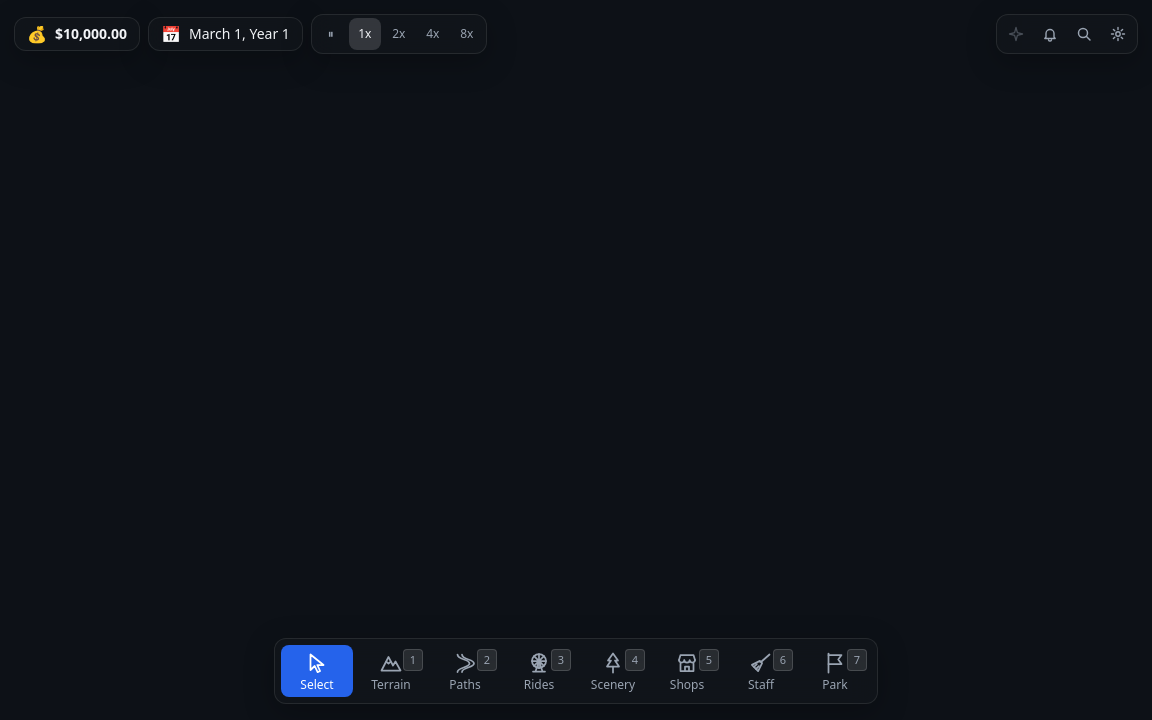
the status pills open the inspector › names the park in the panel's heading, from the host's welcome
Step 1. Click the button with aria-label "Open park overview" → {"x": 225, "y": 34}, box left=149, top=18, right=302, bottom=50
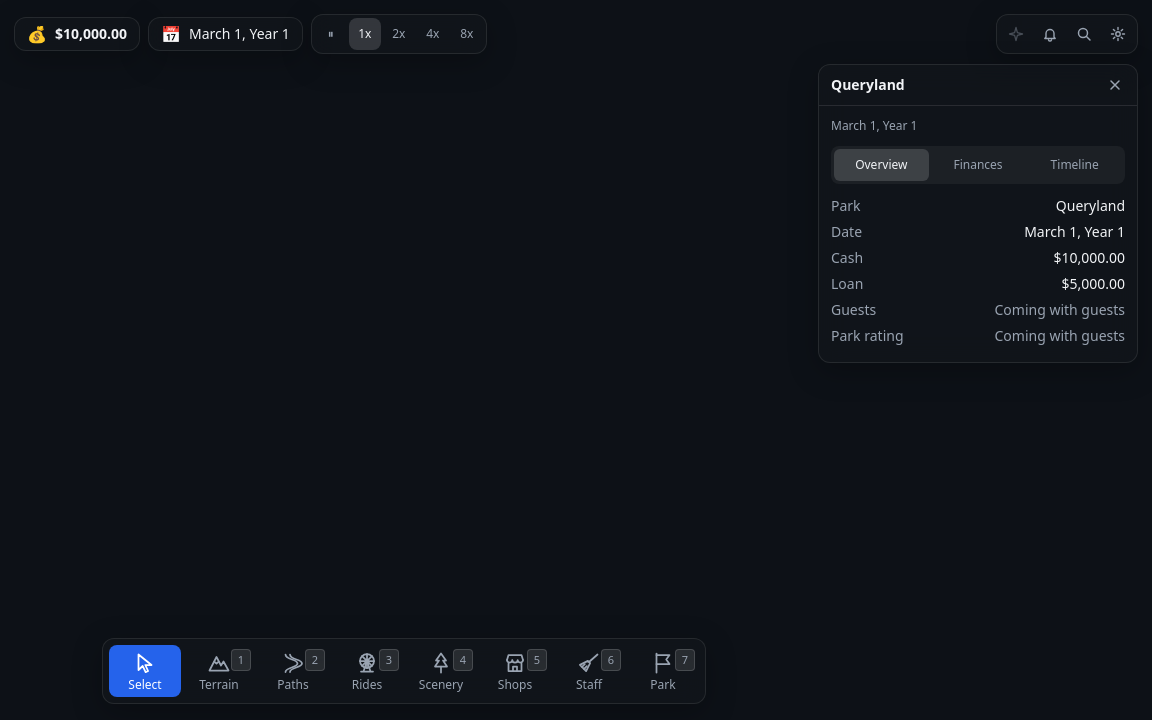
Expected: the heading "Queryland" is shown, left=831, top=75, right=905, bottom=94
